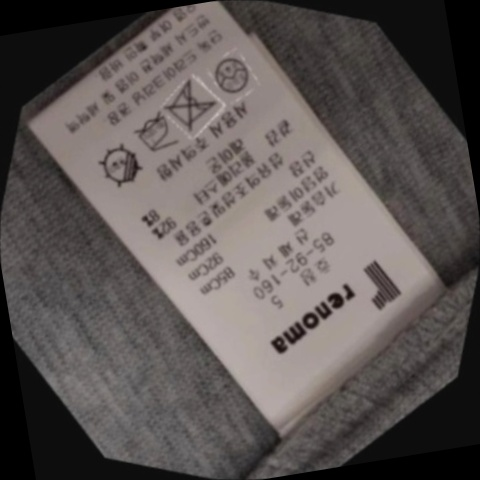DN_wash: (152, 67, 234, 145)
dry_clean_petrol_only: (201, 41, 267, 107)
iron_low: (119, 100, 192, 169)
line_dry_in_shade: (85, 130, 163, 204)
